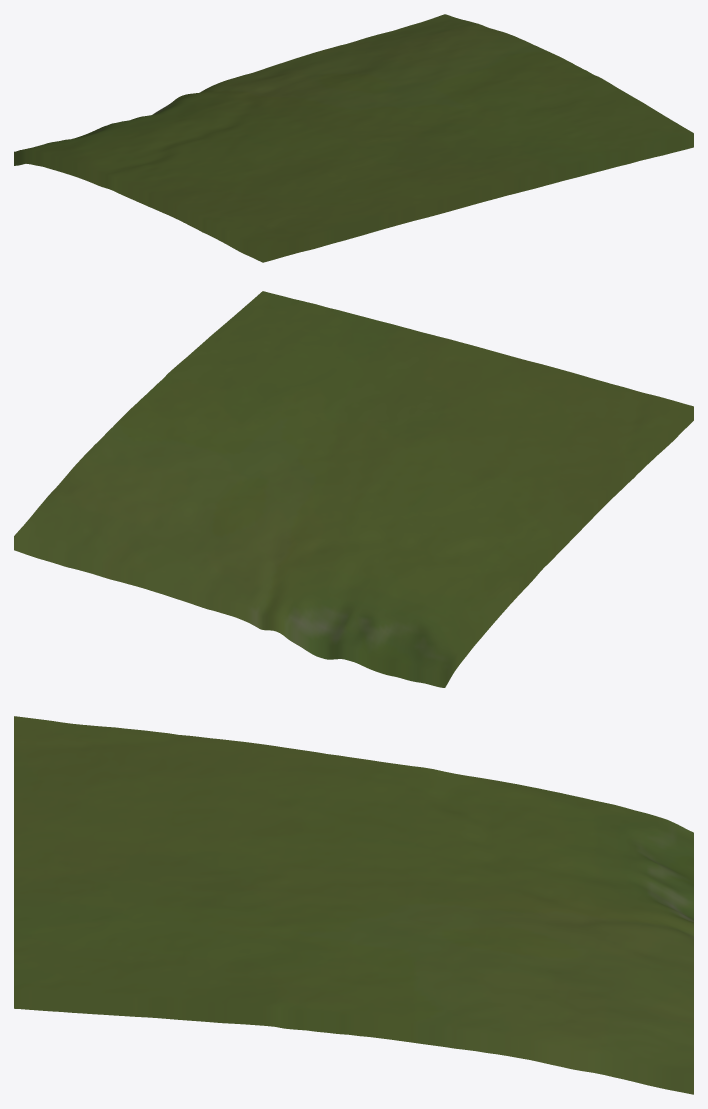
File: terrain_5_-10.glb
The picture shows the model from 3 angles, top to bottom: view 1: azimuth 30°, elevation 25°; view 2: azimuth 150°, elevation 25°; view 3: azimuth 270°, elevation 25°; orthographic projection. The views are drawn at different scales.
Visible parts, largest first — view 1: terrain_5_-10; view 2: terrain_5_-10; view 3: terrain_5_-10.
Part boxes in pixels (bbox=[...]): terrain_5_-10: bbox=[14, 14, 693, 262]; terrain_5_-10: bbox=[14, 291, 693, 687]; terrain_5_-10: bbox=[14, 716, 693, 1094].
Bounding box in the file's own units: 256 × 63 × 256.
